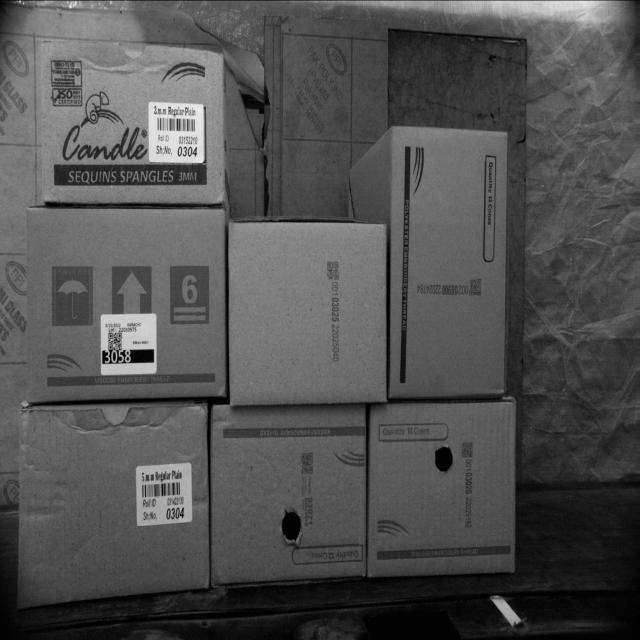cardboxes: (23, 206, 225, 401), (19, 406, 212, 604), (390, 125, 511, 398), (32, 35, 228, 203), (226, 216, 390, 404), (208, 401, 368, 586), (366, 395, 518, 577)
